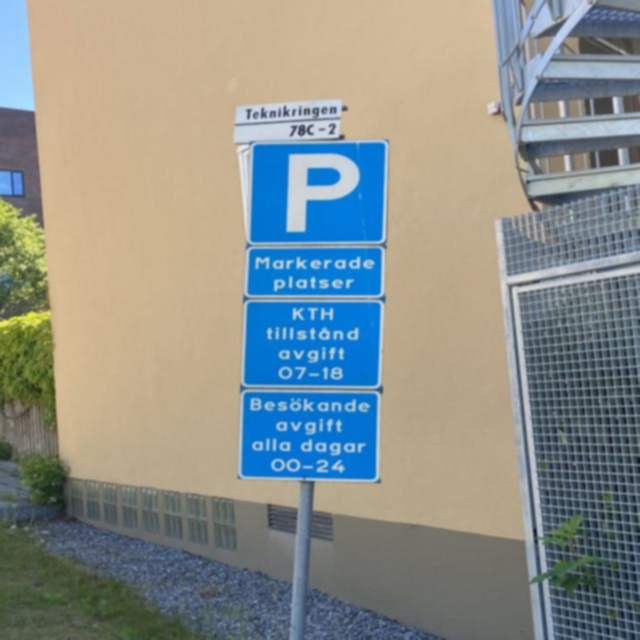P-skylt: (250, 143, 383, 243)
